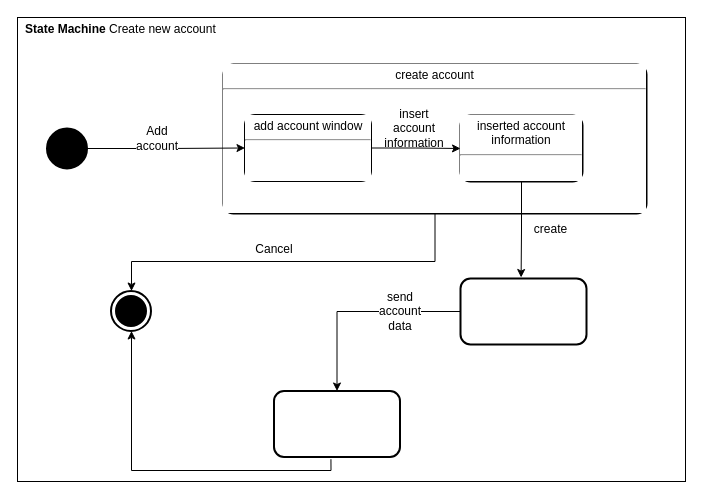
Image size: 703x499. Some labels were removed from this diagram. The shapes that lost their labels are listed below. From the top down, each one's centre as x and y in pixels, then its label:
At (523,311): "account created".
At (336,424): "account list".
